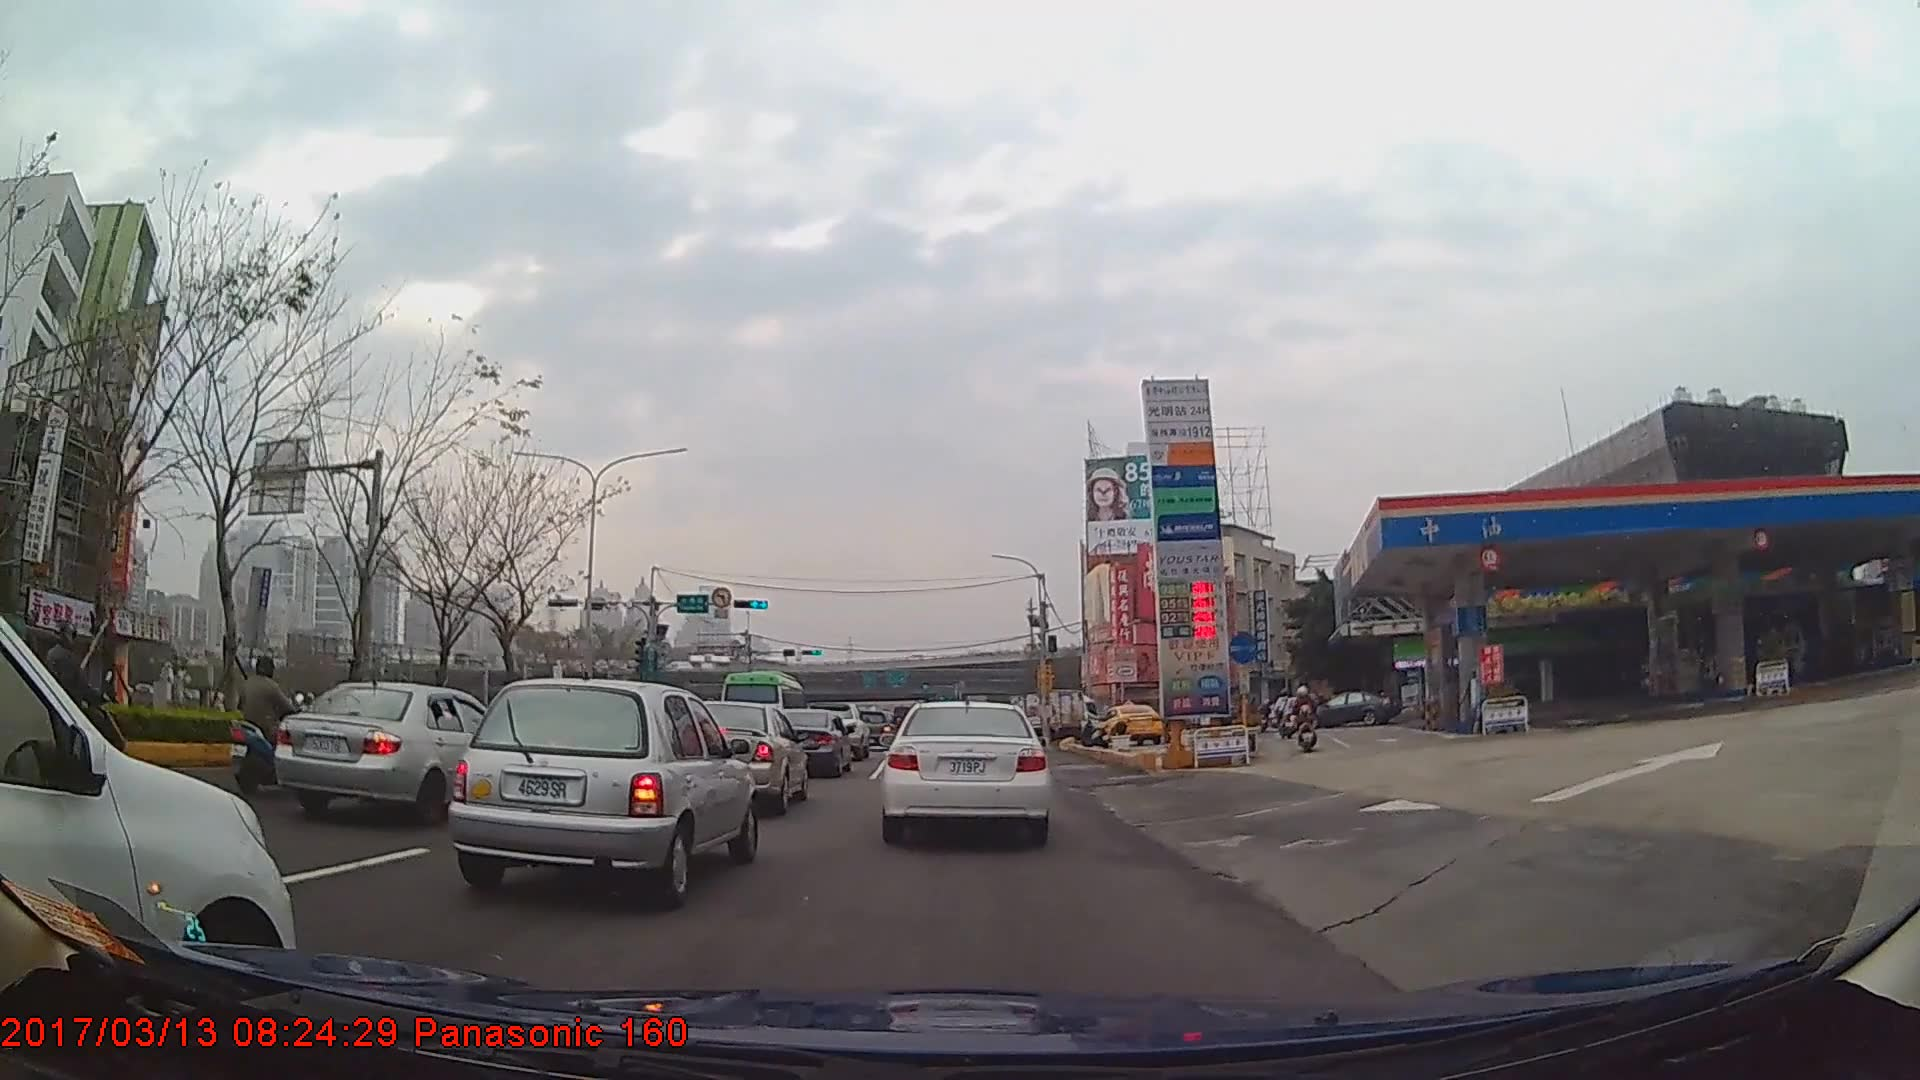rider: (35, 617, 128, 768), (227, 653, 309, 797), (1290, 685, 1319, 751), (1274, 687, 1297, 740)
vehicle: (0, 615, 298, 1013), (445, 674, 760, 901), (273, 679, 528, 825), (879, 696, 1053, 845), (667, 697, 806, 817), (719, 666, 809, 737), (769, 706, 853, 777), (1007, 686, 1100, 741), (1298, 688, 1397, 727), (1099, 701, 1163, 744)
